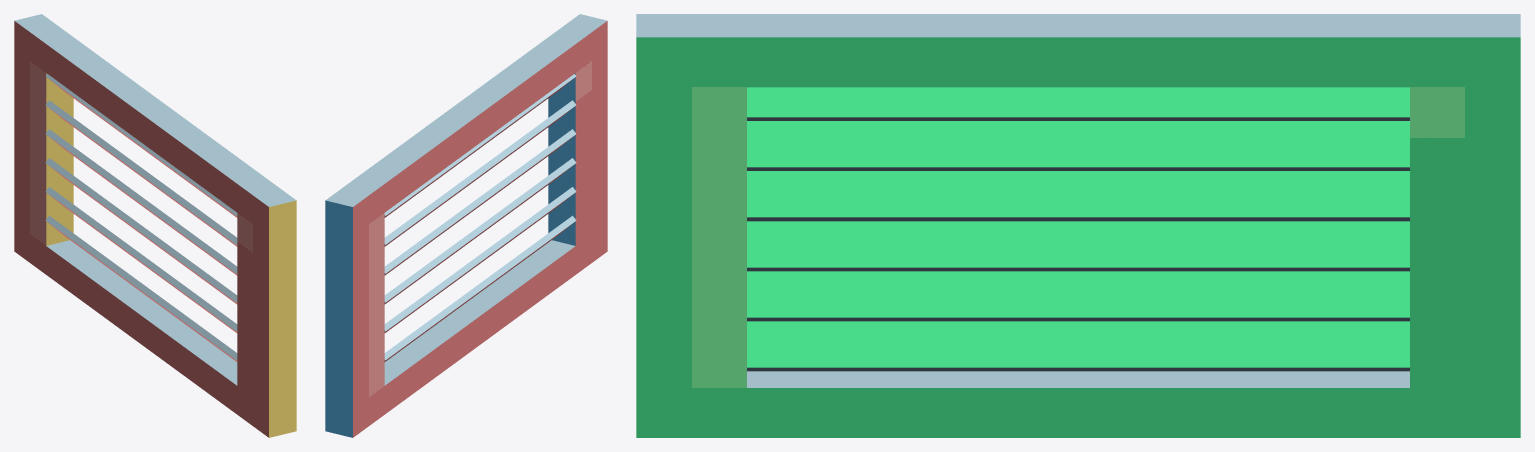
File: Ventilation_Grid.gltf
3 views of the same model, side by side, from view 1: azimuth 30°, elevation 25°; view 2: azimuth 150°, elevation 25°; view 3: azimuth 270°, elevation 25° (orthographic). The views are drawn at different scales.
Parts seen in each view (by area): view 1: Frame, Grid; view 2: Frame, Grid; view 3: Grid, Frame.
Boxes of the visible parts, x1=… form: Frame: x1=14, y1=14, x2=296, y2=437; Grid: x1=45, y1=74, x2=237, y2=361; Frame: x1=325, y1=14, x2=607, y2=437; Grid: x1=384, y1=74, x2=576, y2=361; Grid: x1=747, y1=87, x2=1409, y2=371; Frame: x1=636, y1=14, x2=1520, y2=437.
Size of the model in its own units: 0.0642 by 0.5 by 1.
1 material, 1 textured.
